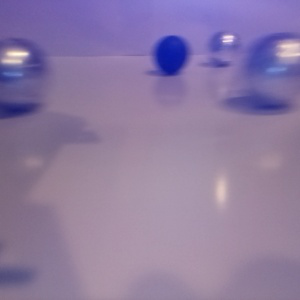alive_ball: (245, 32, 300, 107), (1, 36, 48, 110), (208, 29, 242, 64)
dead_ball: (155, 34, 189, 73)
